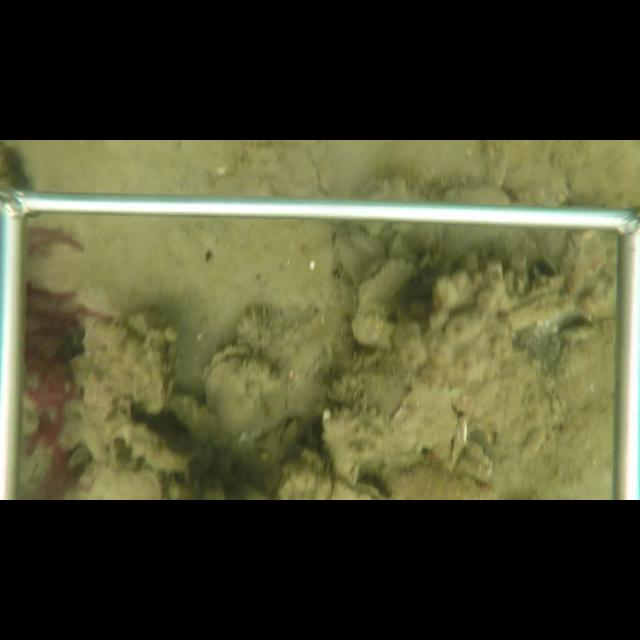Oyster-Closed: (199, 342, 290, 439), (350, 253, 422, 349), (133, 326, 180, 421)
